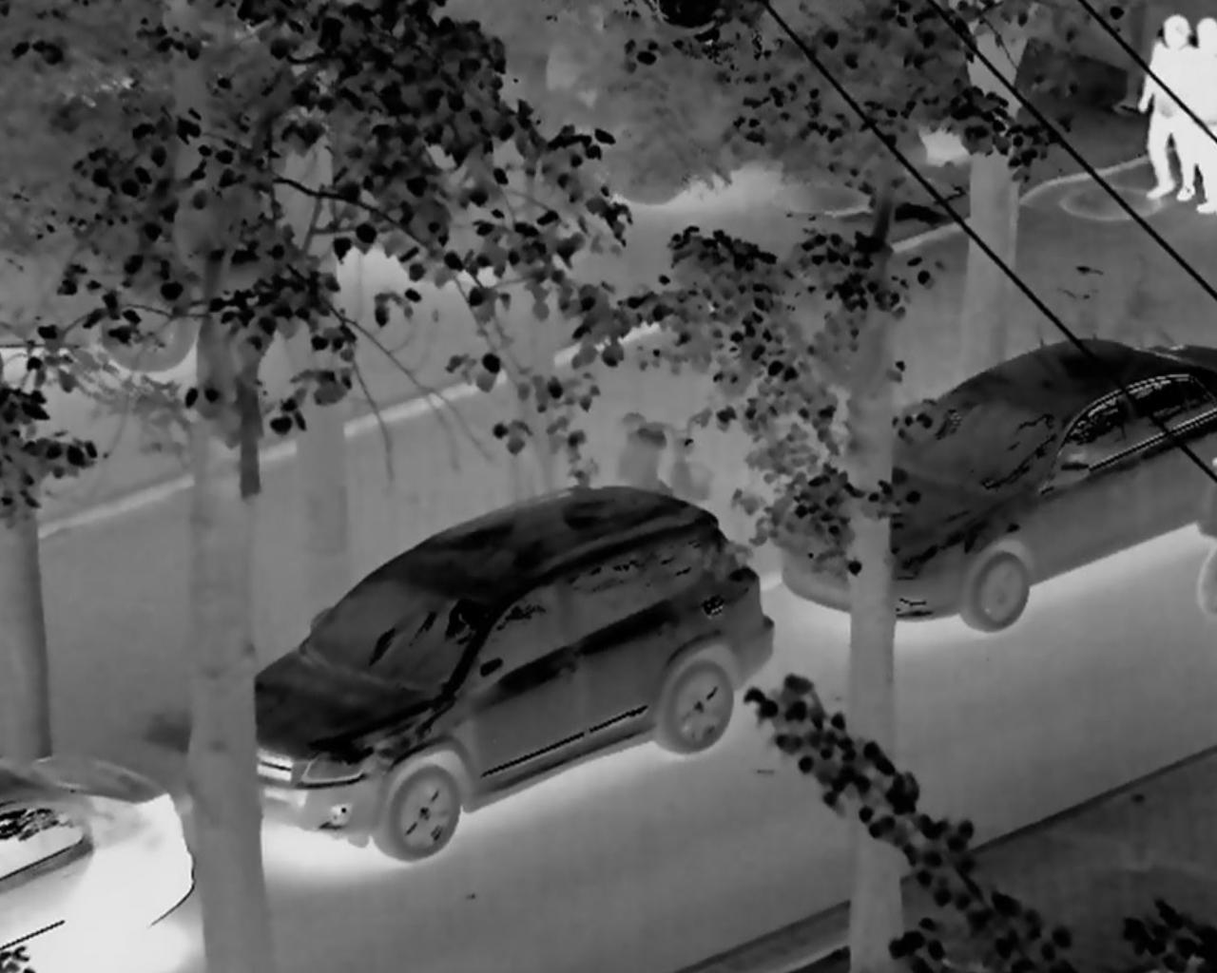person: (1130, 16, 1197, 201), (1171, 10, 1217, 230)
